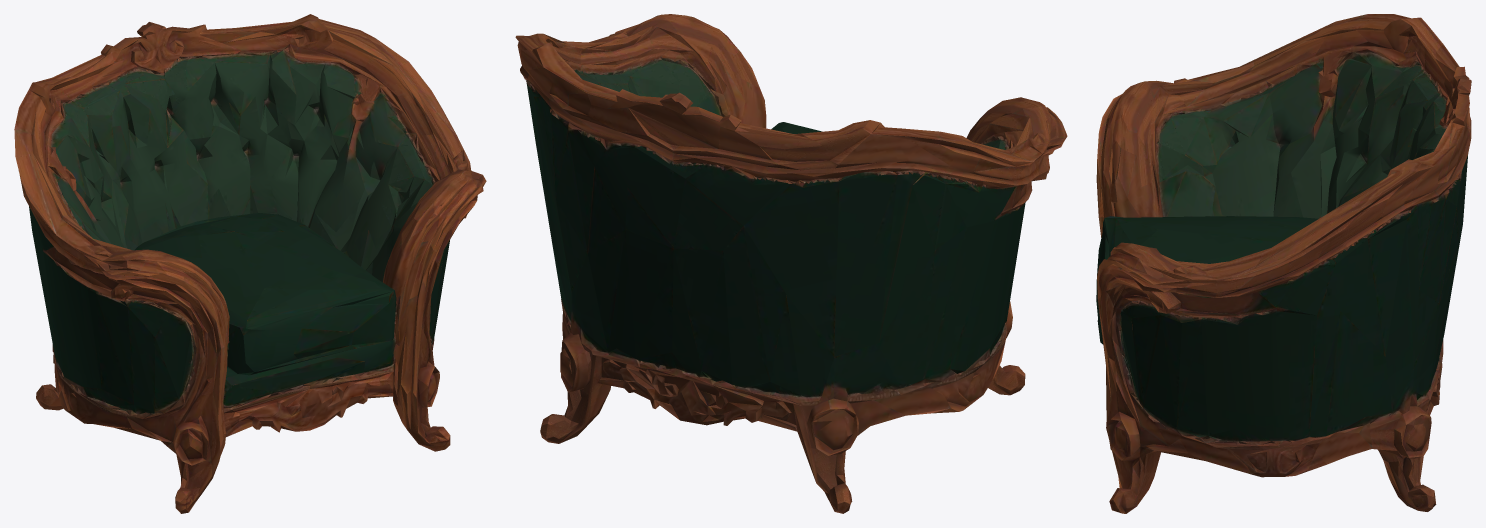
File: armchair.glb
3 views of the same model, side by side, from view 1: azimuth 30°, elevation 25°; view 2: azimuth 150°, elevation 25°; view 3: azimuth 270°, elevation 25° (orthographic). The views are drawn at different scales.
Bounding box in the file's own units: 1.9 × 1.52 × 1.41.
1 material, 1 textured.
